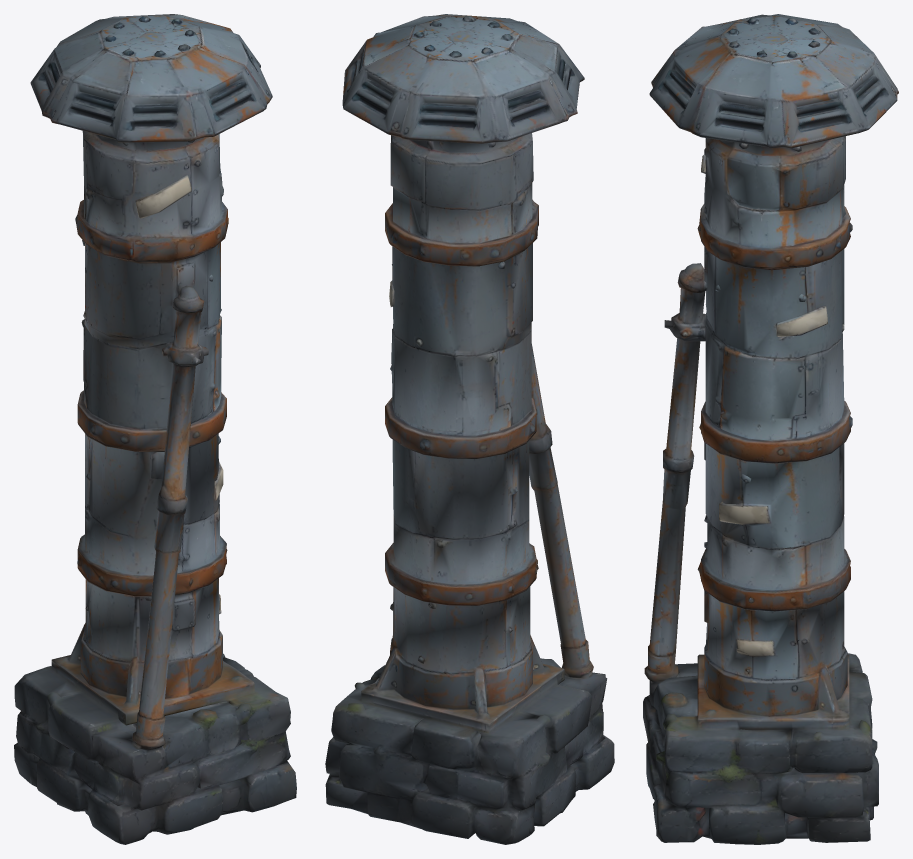
The model's file is tower.glb.
3 views of the same model, side by side, from view 1: azimuth 30°, elevation 25°; view 2: azimuth 150°, elevation 25°; view 3: azimuth 270°, elevation 25° (orthographic). The views are drawn at different scales.
Parts seen in each view (by area): view 1: tripo_node_c1e3d054-f33e-41aa-8f8d-9c162137bb29; view 2: tripo_node_c1e3d054-f33e-41aa-8f8d-9c162137bb29; view 3: tripo_node_c1e3d054-f33e-41aa-8f8d-9c162137bb29.
Boxes of the visible parts, x1,y1,x2,y2 form: tripo_node_c1e3d054-f33e-41aa-8f8d-9c162137bb29: (14,14,296,844); tripo_node_c1e3d054-f33e-41aa-8f8d-9c162137bb29: (325,14,614,844); tripo_node_c1e3d054-f33e-41aa-8f8d-9c162137bb29: (643,14,898,844).
Bounding box in the file's own units: 0.5988 × 2 × 0.6067.
Materials: 1 (1 with a texture image).
